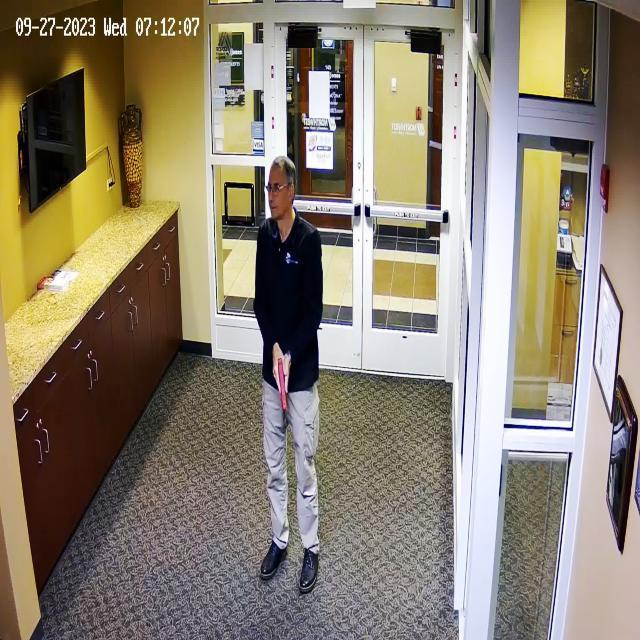Gun: (265, 342, 303, 418)
